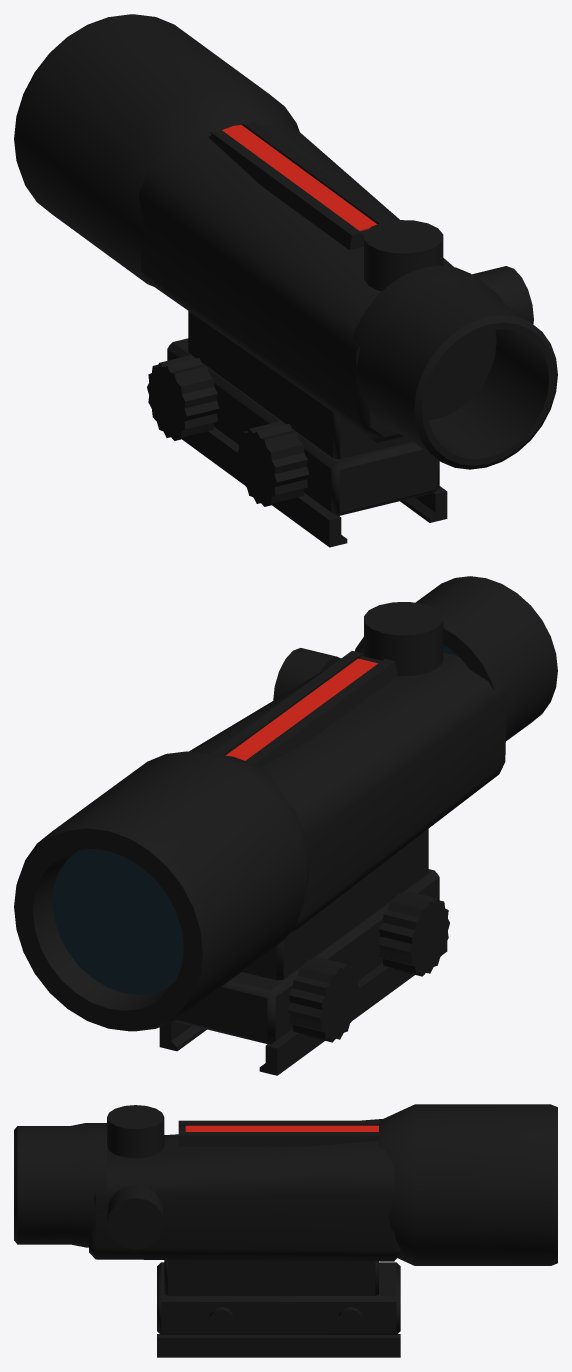
File: acog.glb
3 renders of one model, top to bottom at view 1: azimuth 30°, elevation 25°; view 2: azimuth 150°, elevation 25°; view 3: azimuth 270°, elevation 25°, orthographic. The views are drawn at different scales.
Parts seen in each view (by area): view 1: body; view 2: body; view 3: body.
Part boxes in pixels (<box>): body: <box>14,14,557,547</box>; body: <box>14,576,557,1075</box>; body: <box>14,1104,557,1357</box>.
Size of the model in its own units: 0.0481 by 0.0694 by 0.152.
